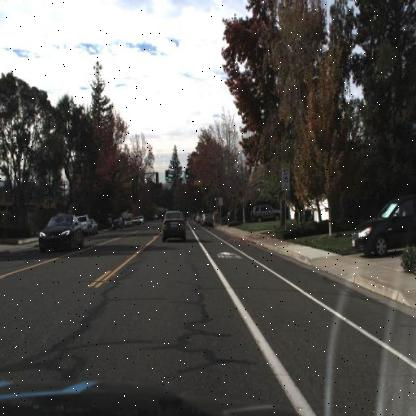car: (350, 194, 416, 260), (39, 214, 84, 255), (159, 207, 188, 243), (252, 200, 282, 225), (76, 214, 91, 234), (201, 212, 215, 230), (109, 215, 125, 230), (88, 217, 100, 236)
trafficLight-Green: (184, 166, 190, 178), (184, 167, 190, 179), (165, 168, 170, 182), (165, 168, 170, 181), (214, 192, 218, 204)
